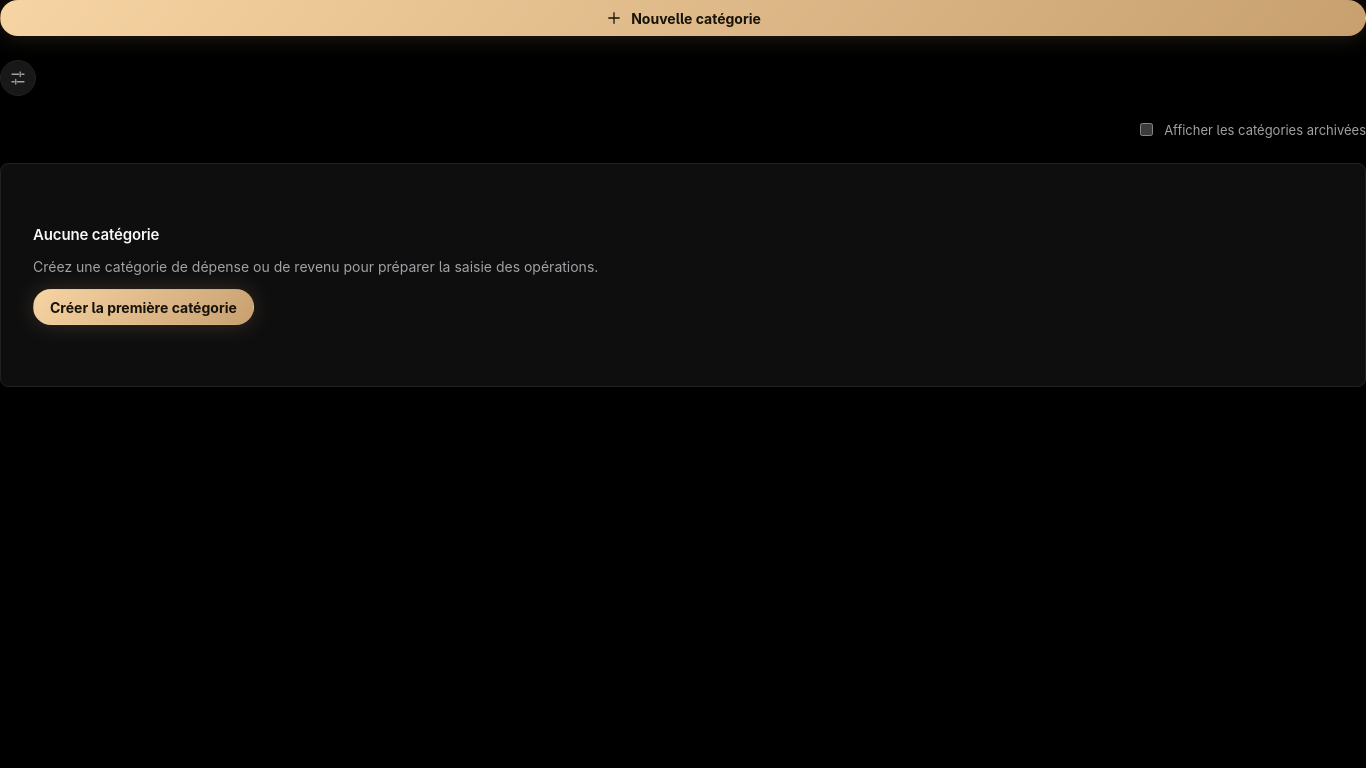
Test: CategoryPage › covers the empty state and creates a bounded category
The width and height of the screenshot is (1366, 768).
Expected: the heading "Aucune catégorie" is shown, [33, 225, 159, 244]
Click the button "Créer la première catégorie": (143, 307) [33, 289, 254, 325]
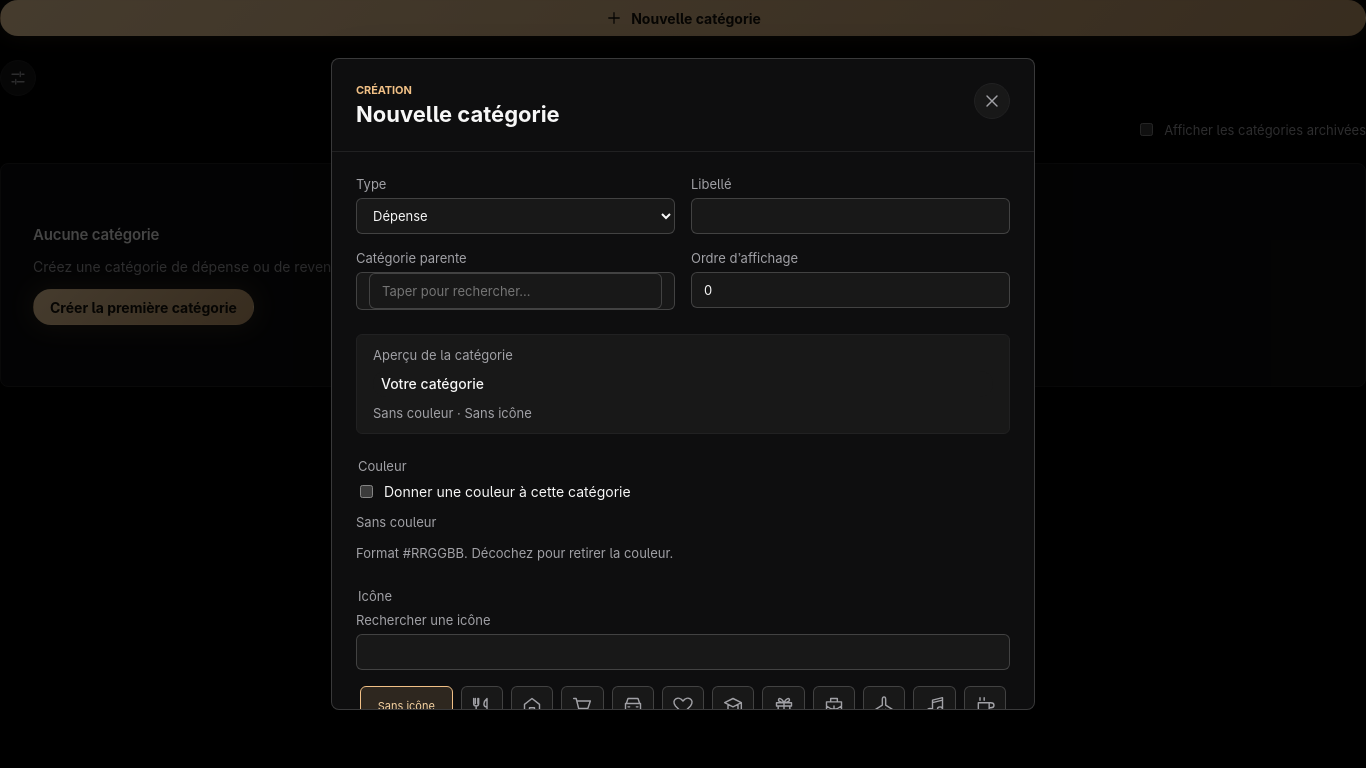
Result: the dialog "Nouvelle catégorie" is shown at [331, 58, 1035, 710]
In the field labelled "Libellé": (850, 216) [691, 198, 1010, 234], type "Restaurants"
(page scrolled)
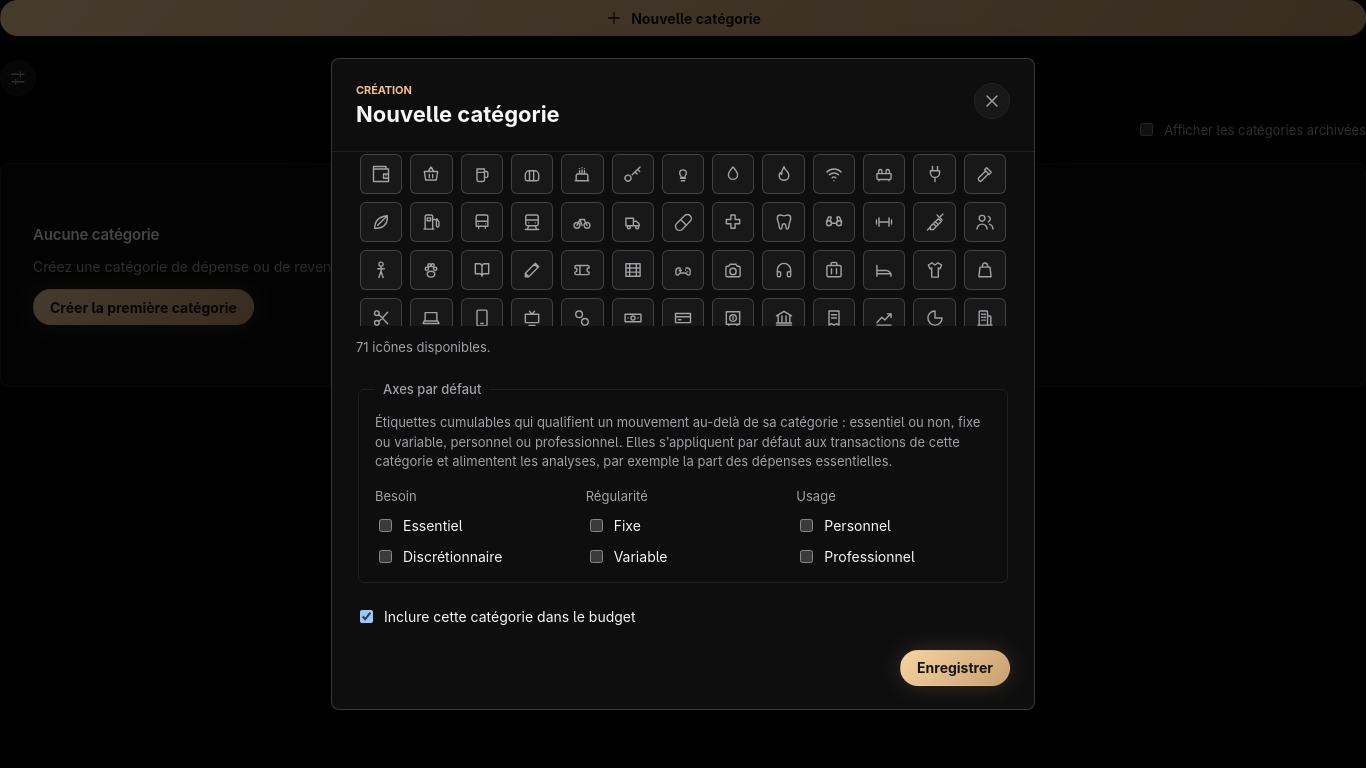
Click the checkbox labelled "Discrétionnaire": (386, 556) [379, 550, 392, 563]
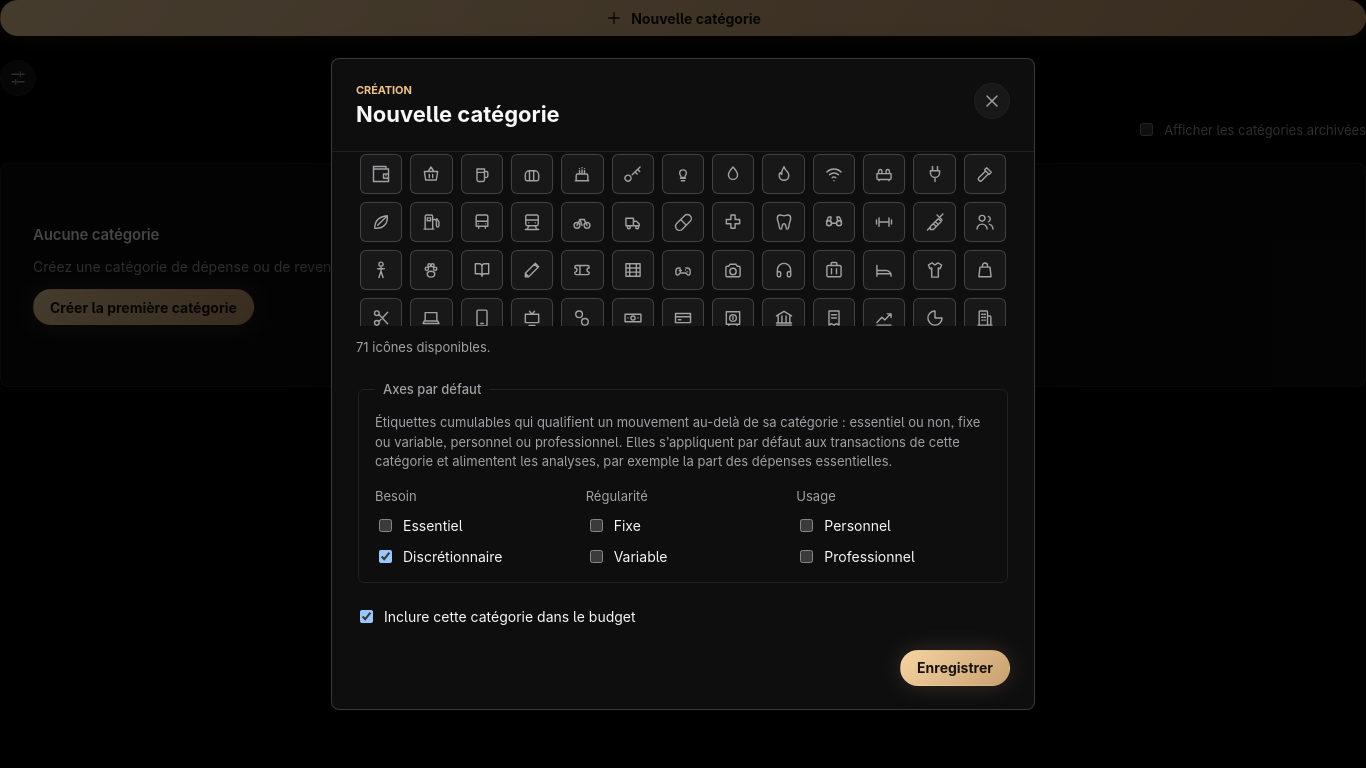
Click the button "Enregistrer": (955, 668) [900, 650, 1010, 686]
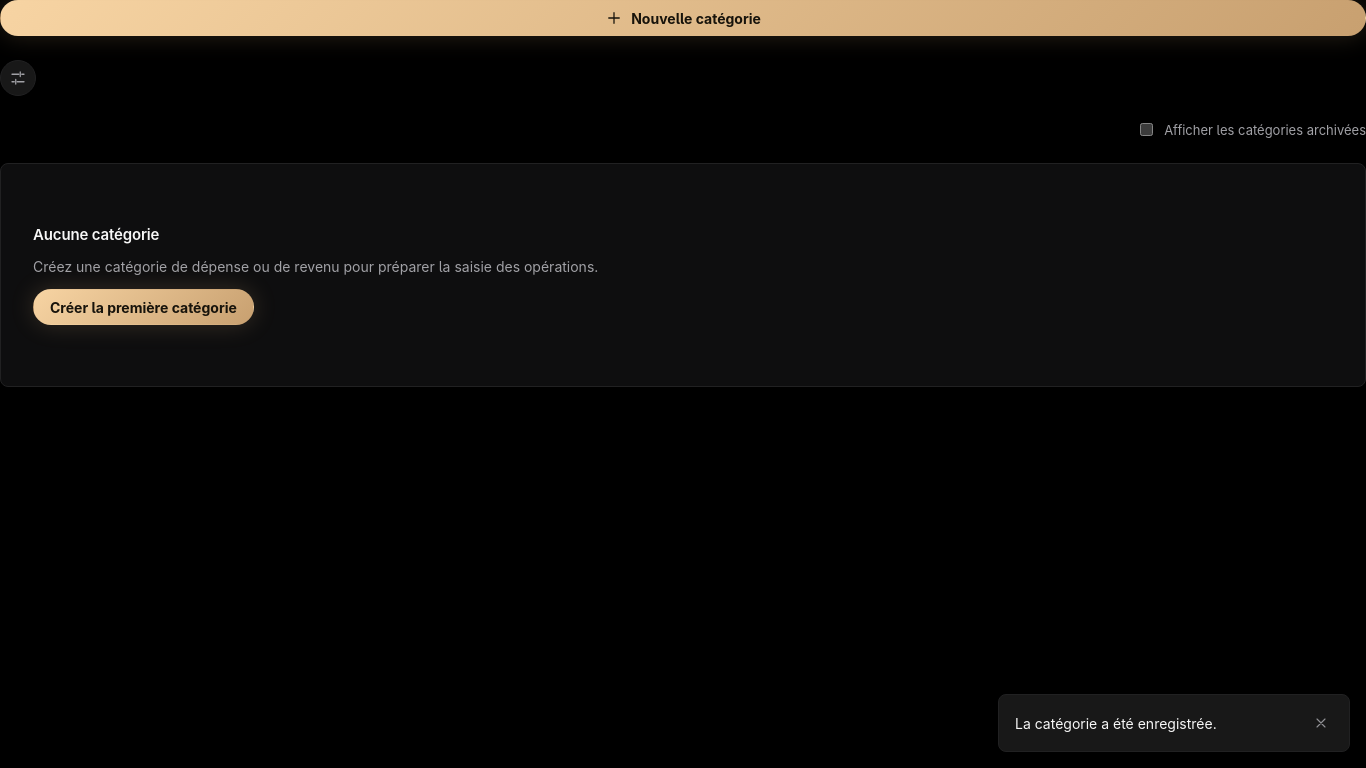
Result: the text "La catégorie a été enregistrée." is shown at [998, 694, 1350, 752]
